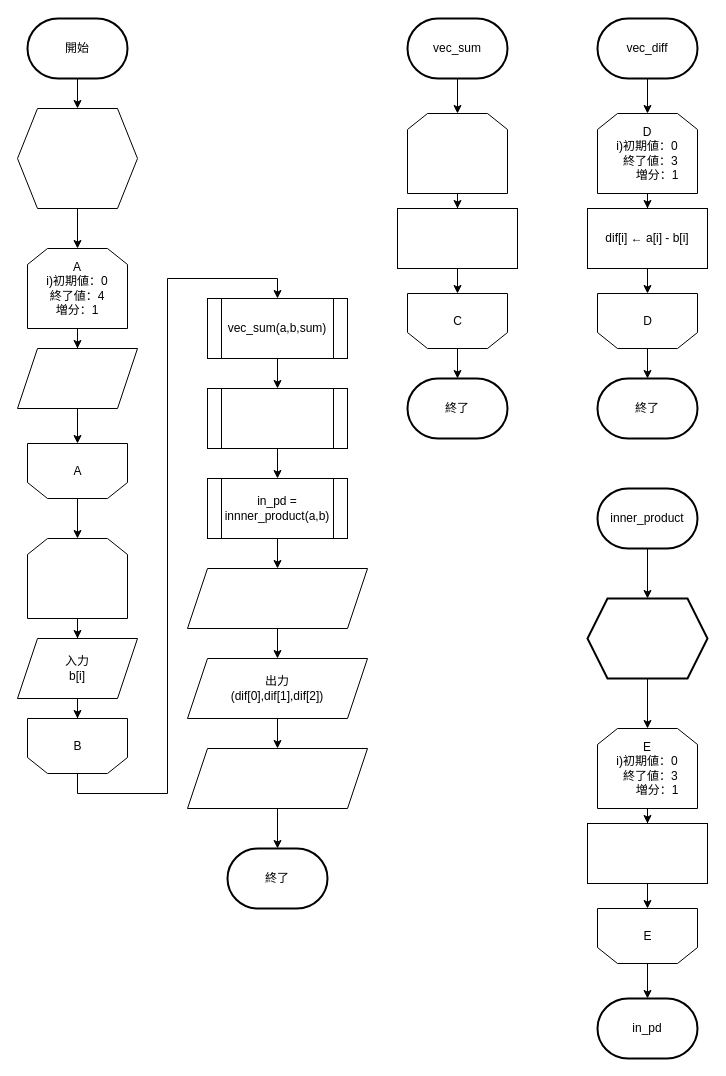
The diagram is 726 pixels wide and 1076 high, and some of its shapes have lost their labels. Each missing label, with the centre of its shape:
B i)初期値：0 終了値：4 増分：1: point (77, 578)
C i)初期値：0 終了値：3 増分：1: point (457, 153)
in_pd ← in_pd + a[1]*b[1]: point (647, 853)
sum[i] ← a[i] + b[i]: point (457, 238)
vec_diff(a,b,dif): point (277, 418)
入力 a[i]: point (77, 378)
出力 (sum[0],sum[1],sum[2]): point (277, 598)
出力 in_pd: point (277, 778)
実数型 in_pd: point (647, 638)
実数型 in_pd 実数型（配列） a[3], b[3], sum[3], dif[3]: point (77, 158)
